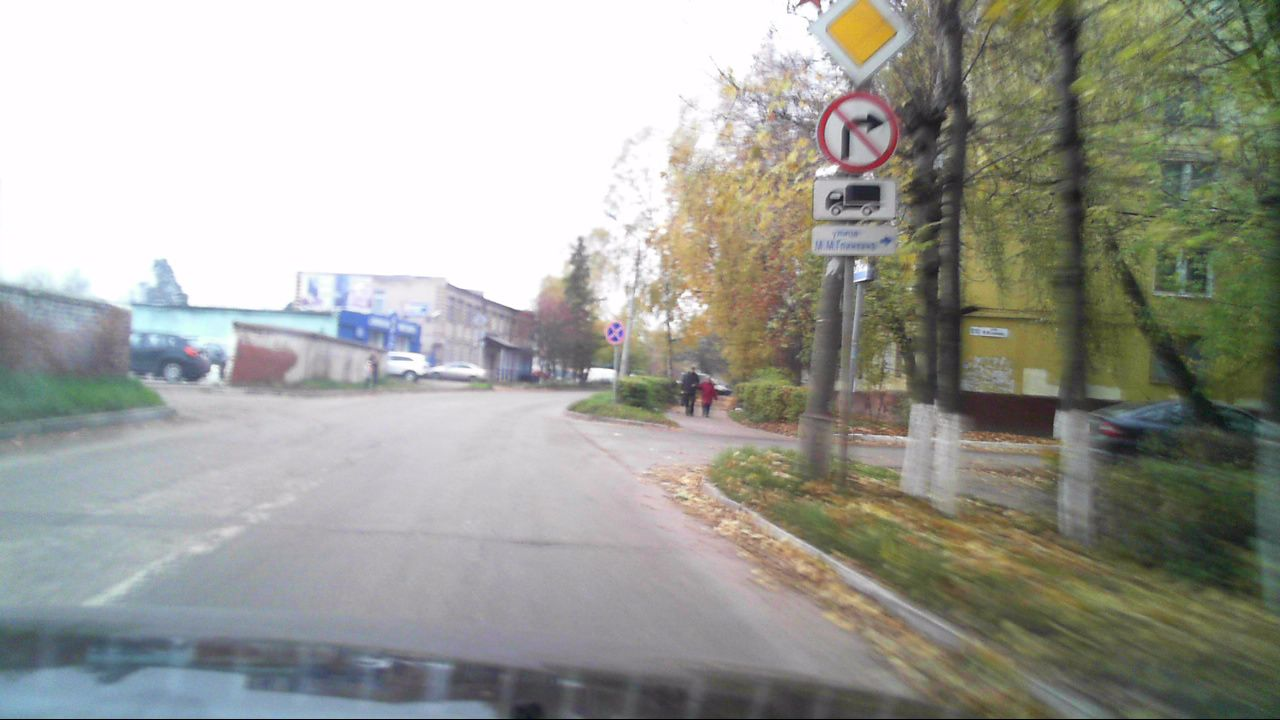No Parking: (605, 321, 625, 345)
